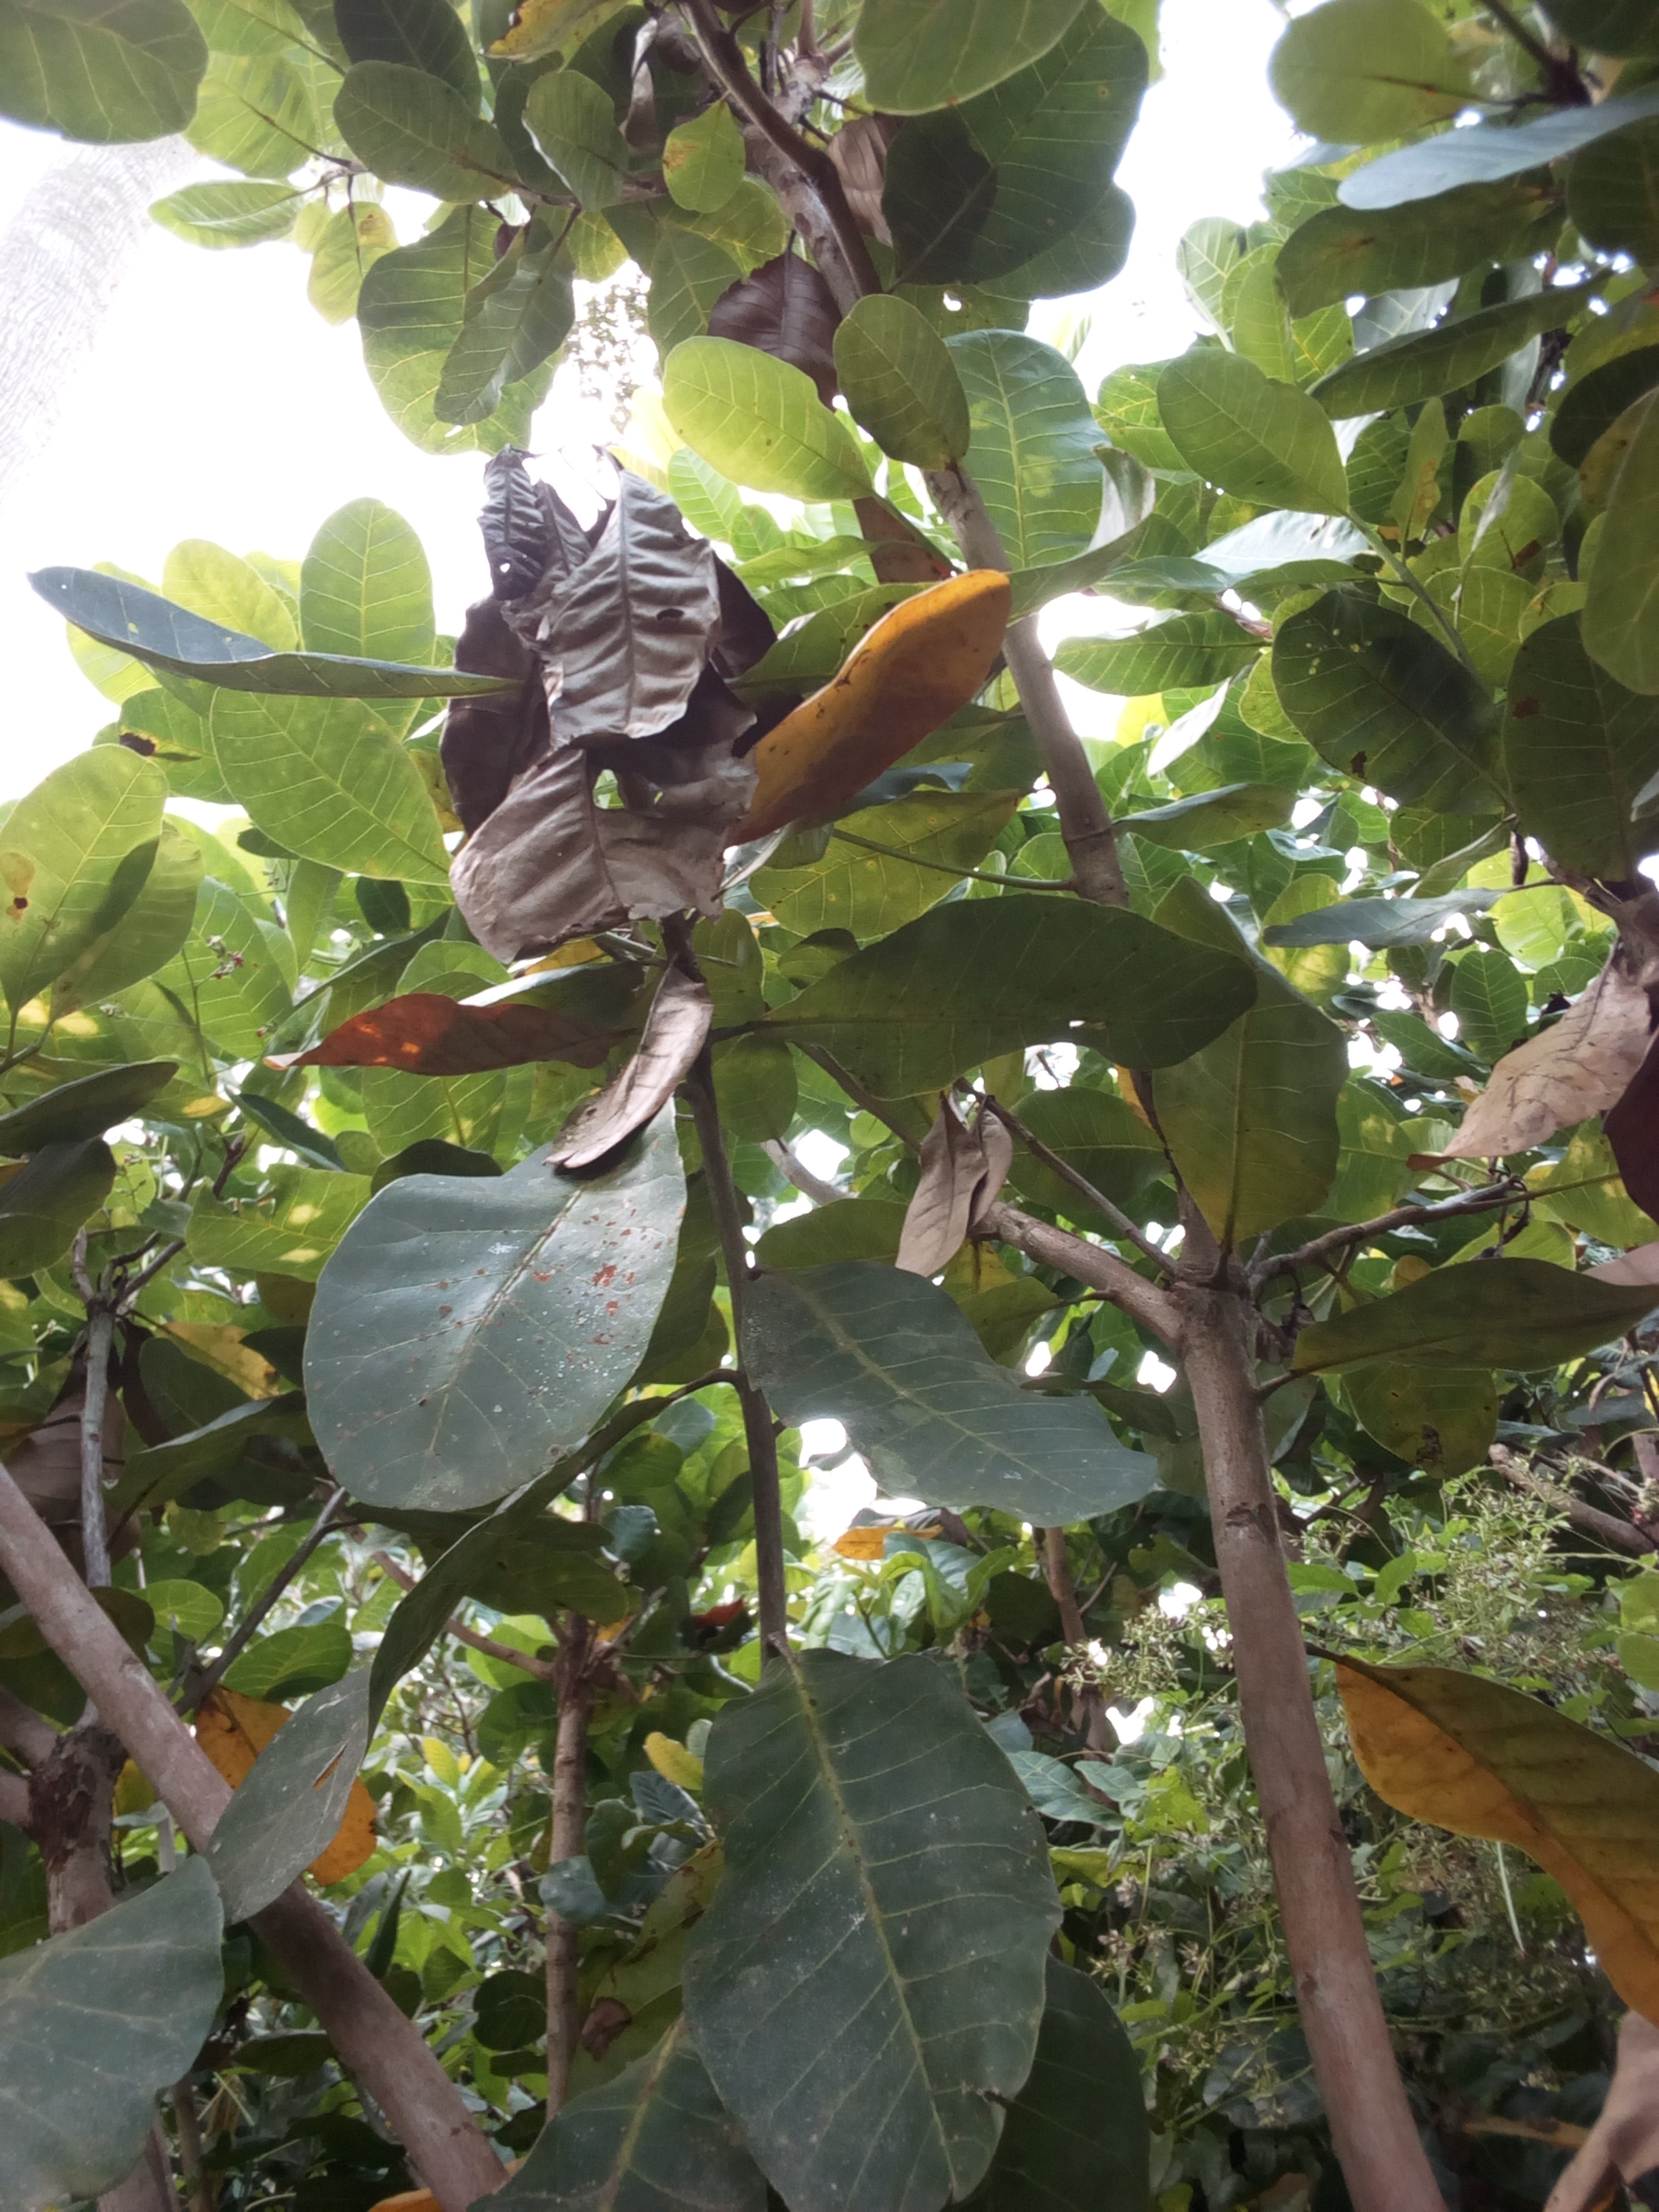Dessèchement des bourgeons: (545, 489, 721, 754), (1202, 1167, 1270, 1329)
